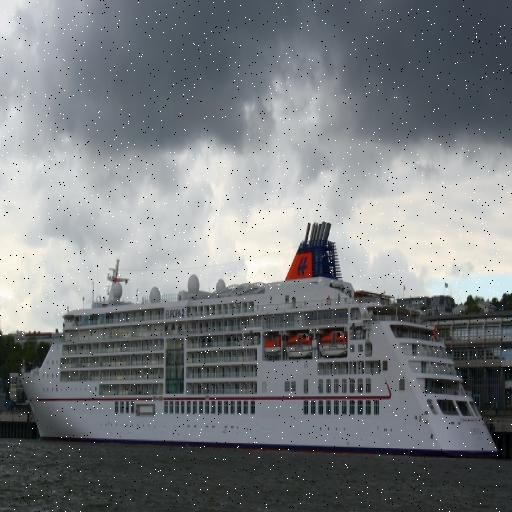cruises: (20, 214, 507, 474)
